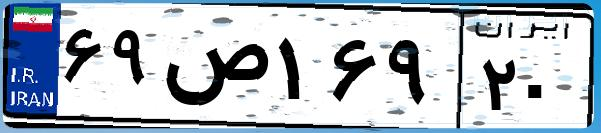0: (525, 38, 570, 115)
1: (270, 28, 330, 110)
2: (475, 38, 525, 113)
6: (330, 28, 385, 110), (57, 26, 110, 100)
9: (385, 28, 445, 110), (110, 28, 158, 98)
ص: (158, 20, 270, 120)
